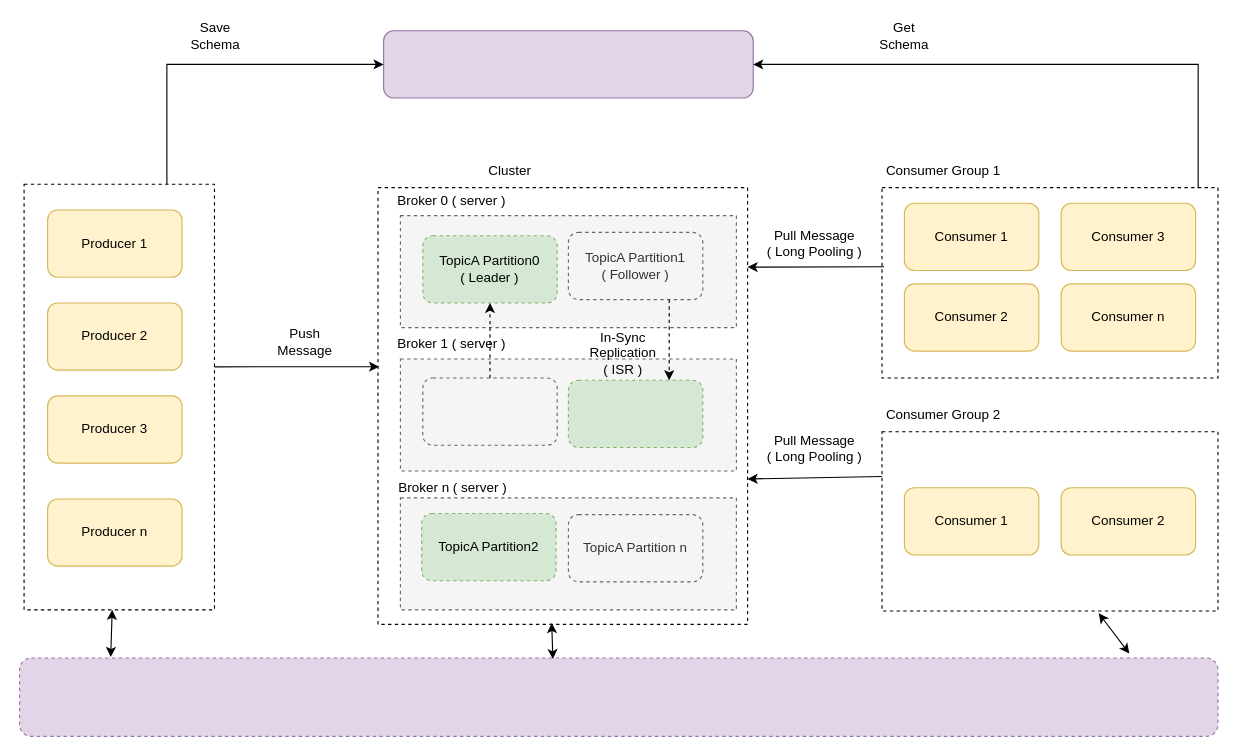
This 1238x756 diagram has some shape labels left out. The shapes that lost their labels are listed below. From the top down, each one's centre as x and y in pixels, then its label:
At (567,64): "Schema Registry".
At (489,411): "TopicA Partition 0 ( Follower )".
At (635,413): "TopicA Partition1 ( Leader )".
At (618,696): "Zookeeper Service ( Cluster Manager )".
